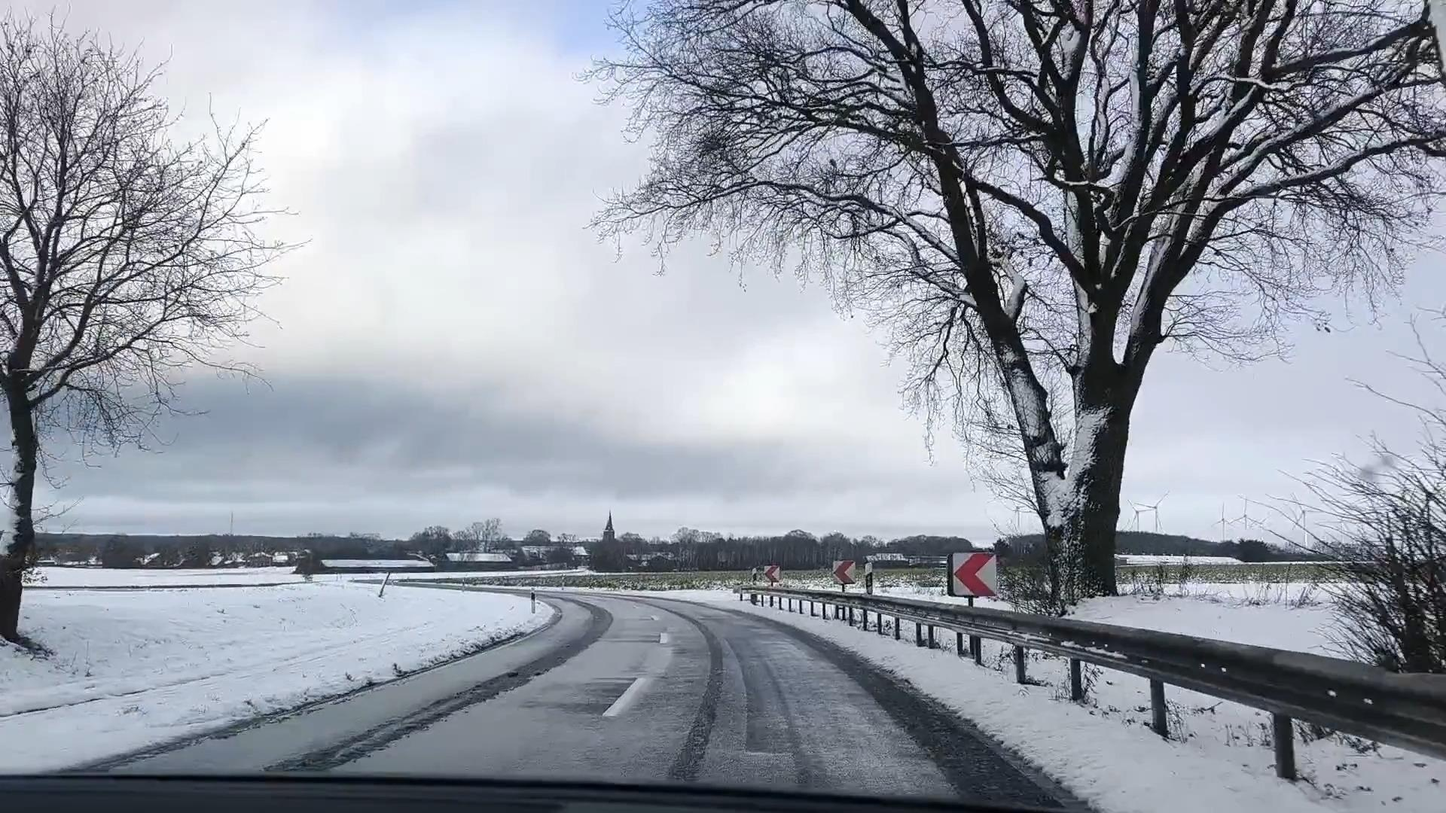Snow: (733, 587, 1446, 813), (0, 569, 541, 772)
wet: (93, 588, 1078, 805)
